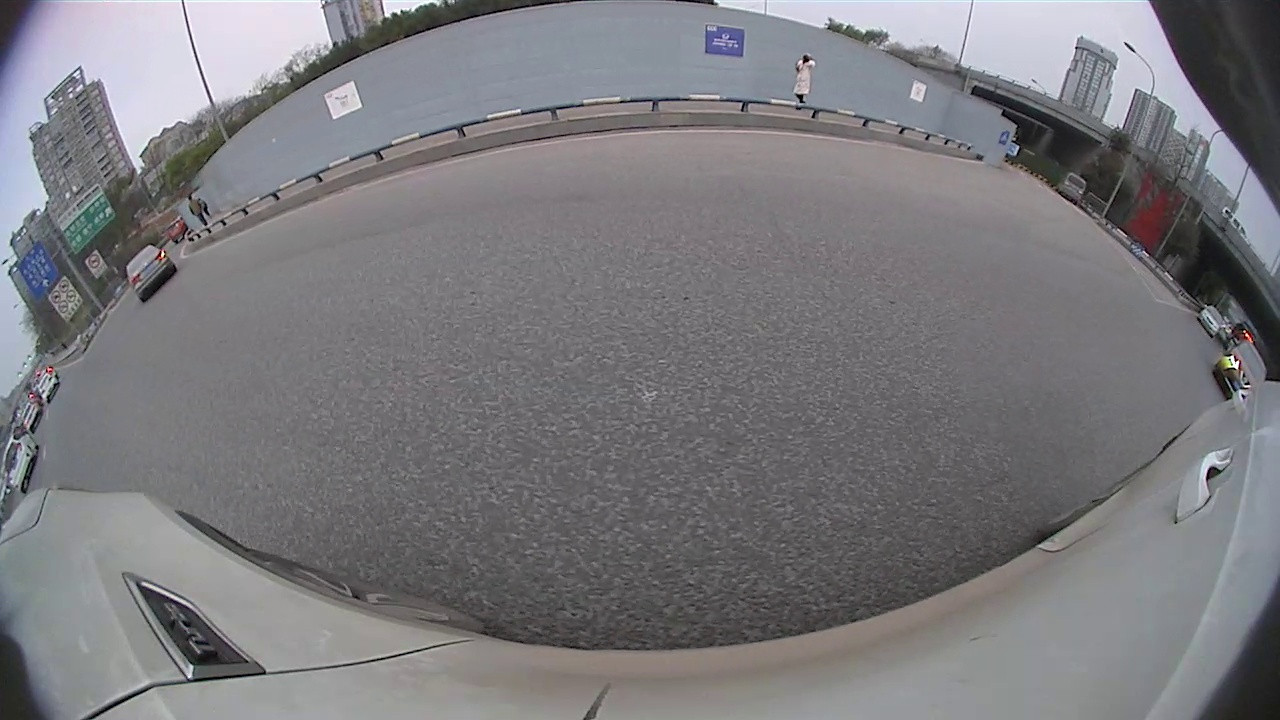car: (1212, 340, 1268, 402), (124, 242, 178, 302), (1, 431, 41, 495), (1056, 170, 1089, 205), (1196, 305, 1226, 339), (35, 369, 60, 404), (21, 402, 44, 435)
person: (798, 52, 811, 103), (187, 195, 202, 228)
